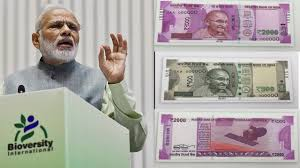twoThousand: (163, 4, 286, 38)
